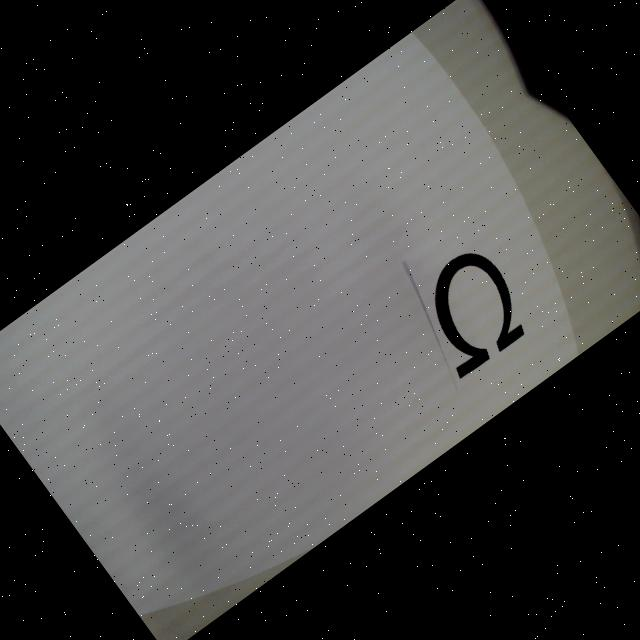OMEGA: (400, 241, 538, 380)
